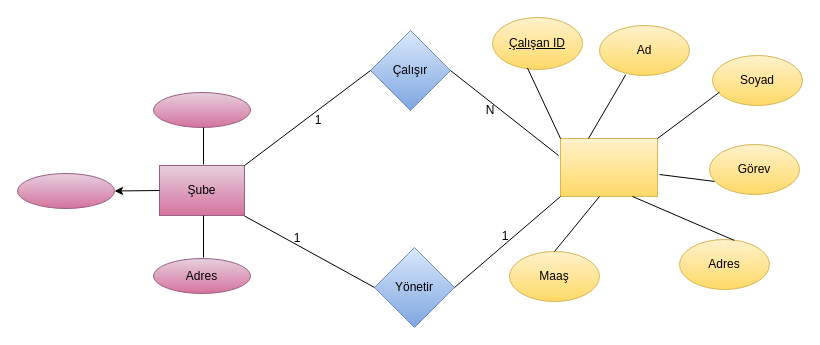
Image size: 820x345. Some labels were removed from this diagram. The box of each missing label's shape, as (x1, y1, x2, y2) in pixels:
Çalışan: (560, 138, 658, 196)
Şube Ad: (16, 172, 114, 208)
Şube ID: (152, 92, 250, 128)
